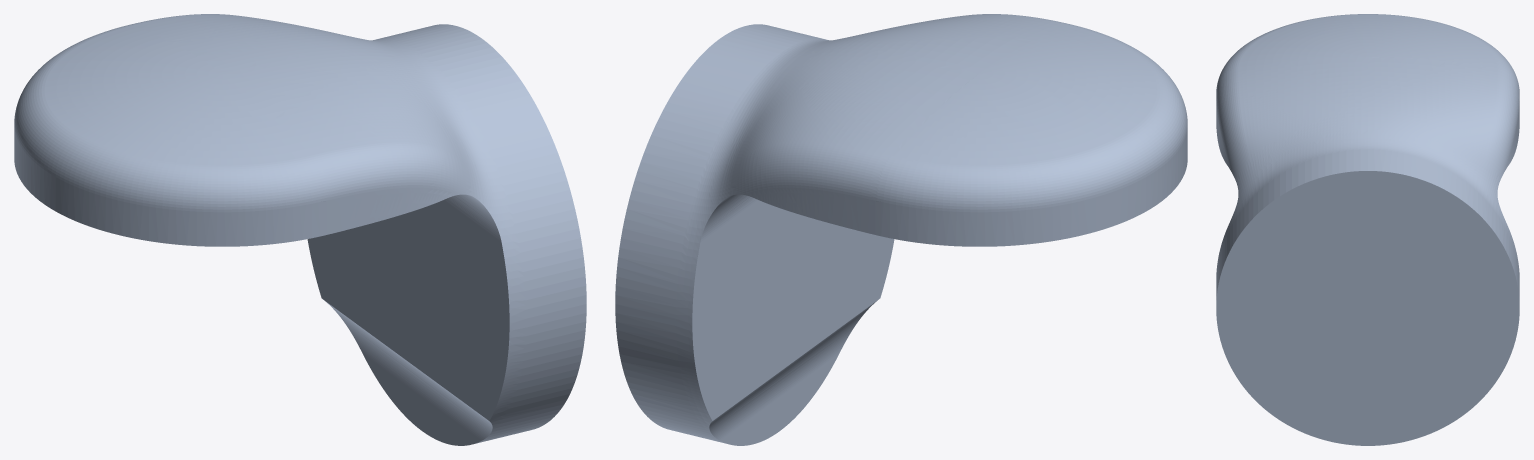
3 renders of one model, left to right at view 1: azimuth 30°, elevation 25°; view 2: azimuth 150°, elevation 25°; view 3: azimuth 270°, elevation 25°, orthographic. The views are drawn at different scales.
Parts seen in each view (by area): view 1: UArm-V3.6-Wrist-front-simplified; view 2: UArm-V3.6-Wrist-front-simplified; view 3: UArm-V3.6-Wrist-front-simplified.
Part boxes in pixels (bbox=[...]): UArm-V3.6-Wrist-front-simplified: bbox=[14, 14, 586, 445]; UArm-V3.6-Wrist-front-simplified: bbox=[615, 14, 1187, 445]; UArm-V3.6-Wrist-front-simplified: bbox=[1216, 14, 1519, 445].
Bounding box in the file's own units: 0.0794 × 0.065 × 0.07.
